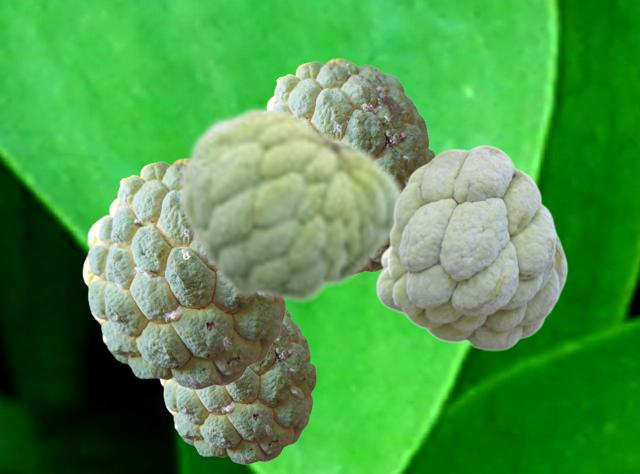atis: (82, 158, 287, 388), (176, 104, 404, 305), (375, 144, 567, 350), (266, 58, 435, 274), (159, 308, 315, 463)
